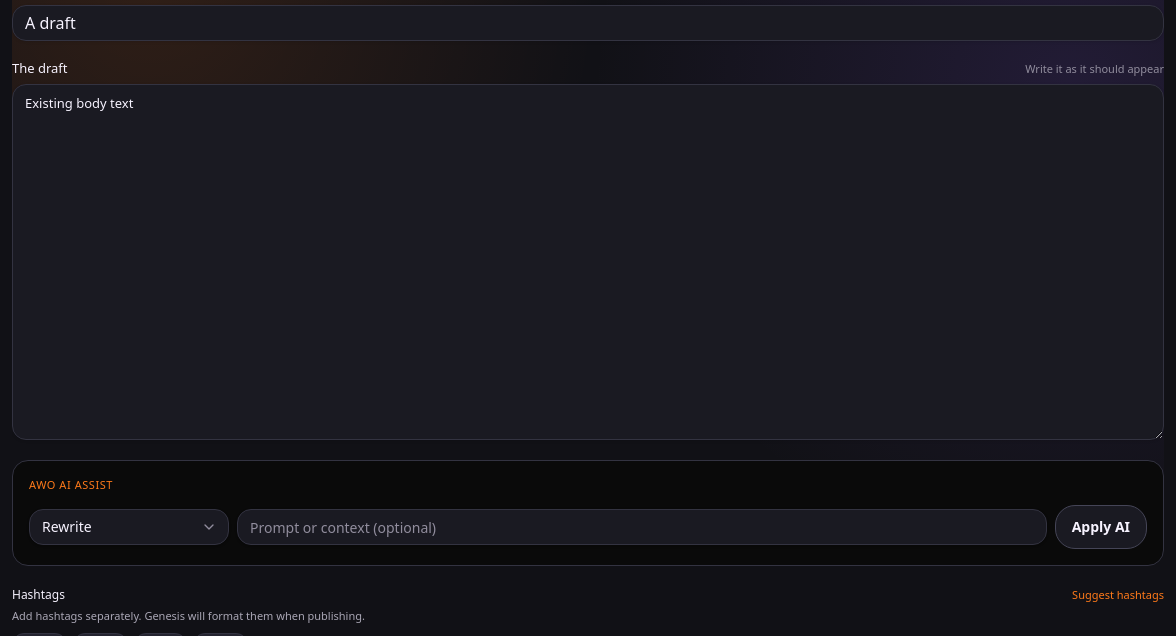
Test: H10 — accepting a suggestion is refused once the platform limit is already reached › 4 existing + Instagram (max 5): accepting one suggestion succeeds; accepting a second is refused
Click the button "Suggest hashtags": coordinates (1118, 595) [1072,587,1164,603]
(page scrolled)
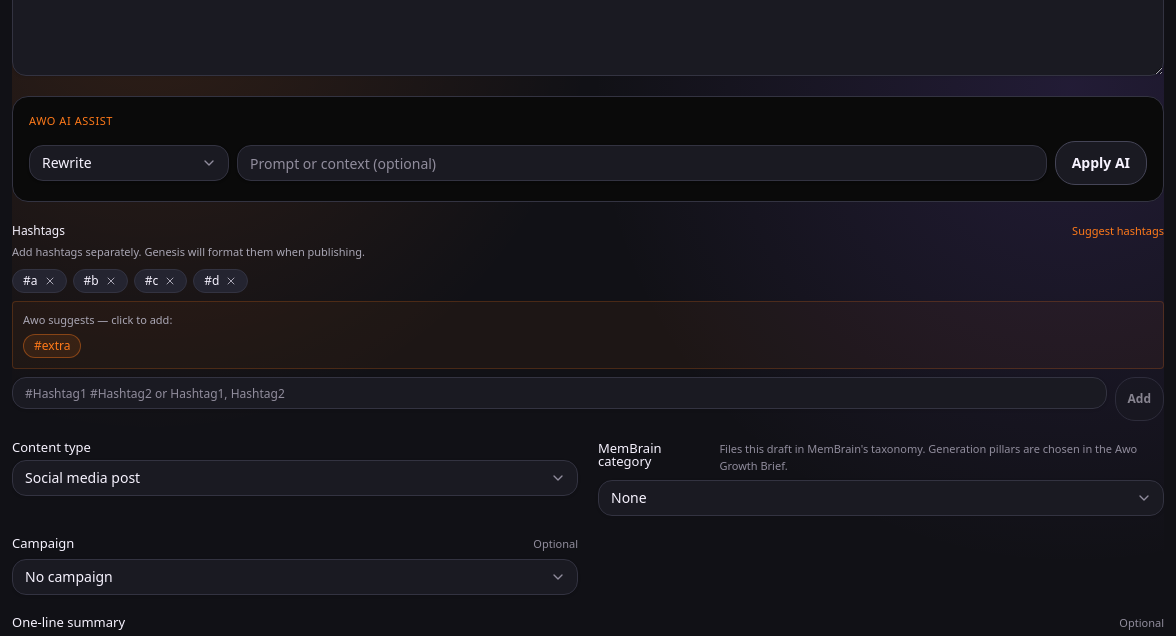
Click the button "#extra": coordinates (52, 346) [23,334,81,358]
(page scrolled)
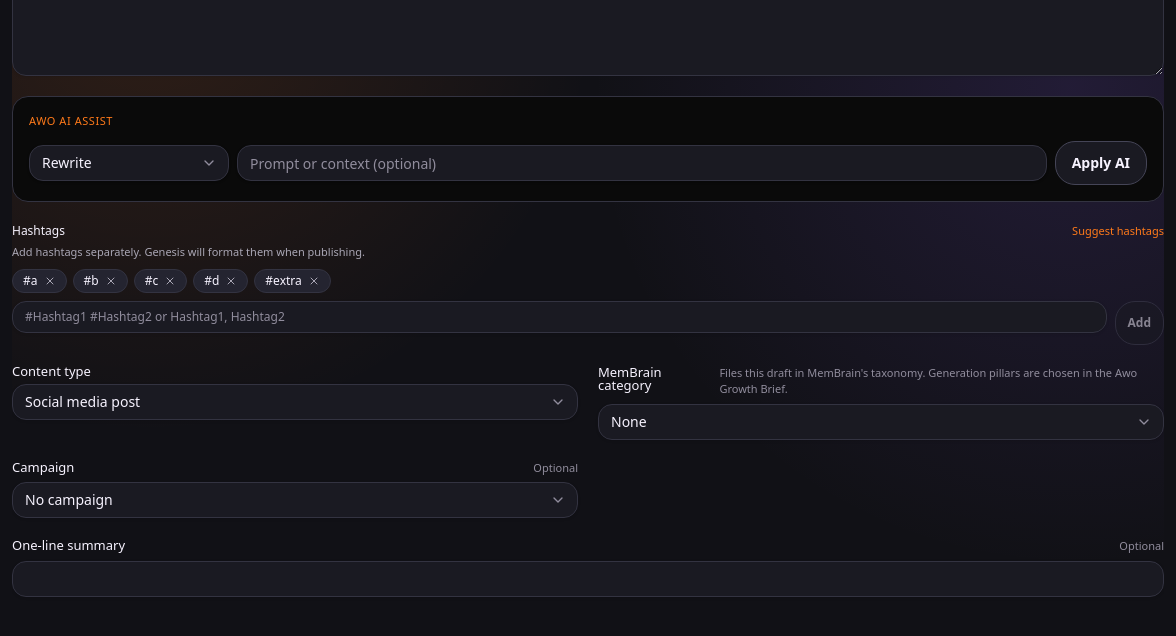
Result: the text "#extra" is shown at [254,268,331,292]
Result: the text "#a" is shown 5 times at [12,268,66,292]; [72,268,128,292]; [134,268,187,292]; [193,268,248,292]; [254,268,331,292]
